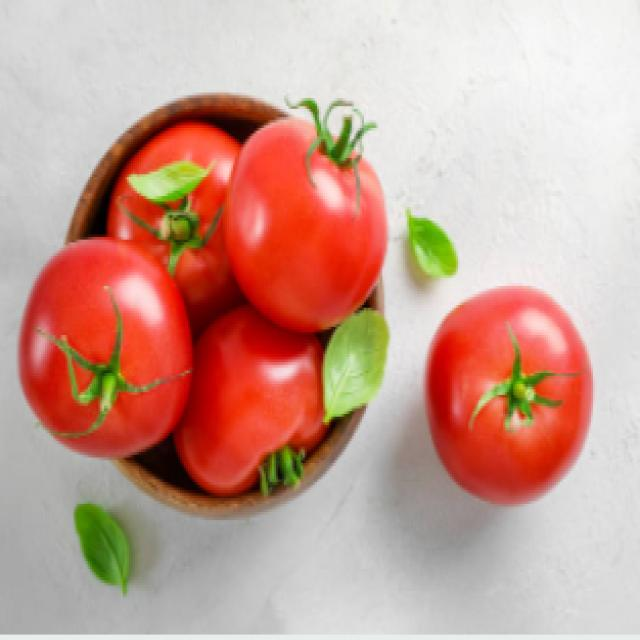Tomato: (223, 86, 395, 360), (26, 231, 196, 462), (430, 301, 594, 502)
